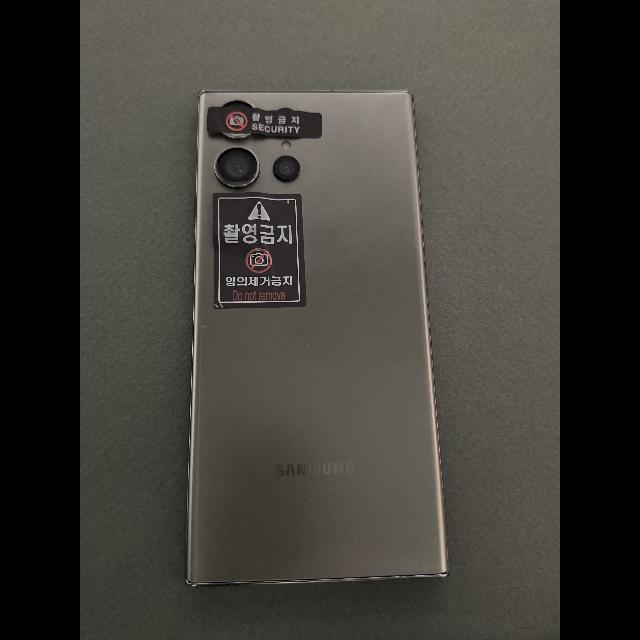lens: (217, 146, 259, 187), (223, 132, 256, 139), (276, 108, 294, 111)
sticker: (213, 191, 306, 309), (207, 105, 322, 139)
